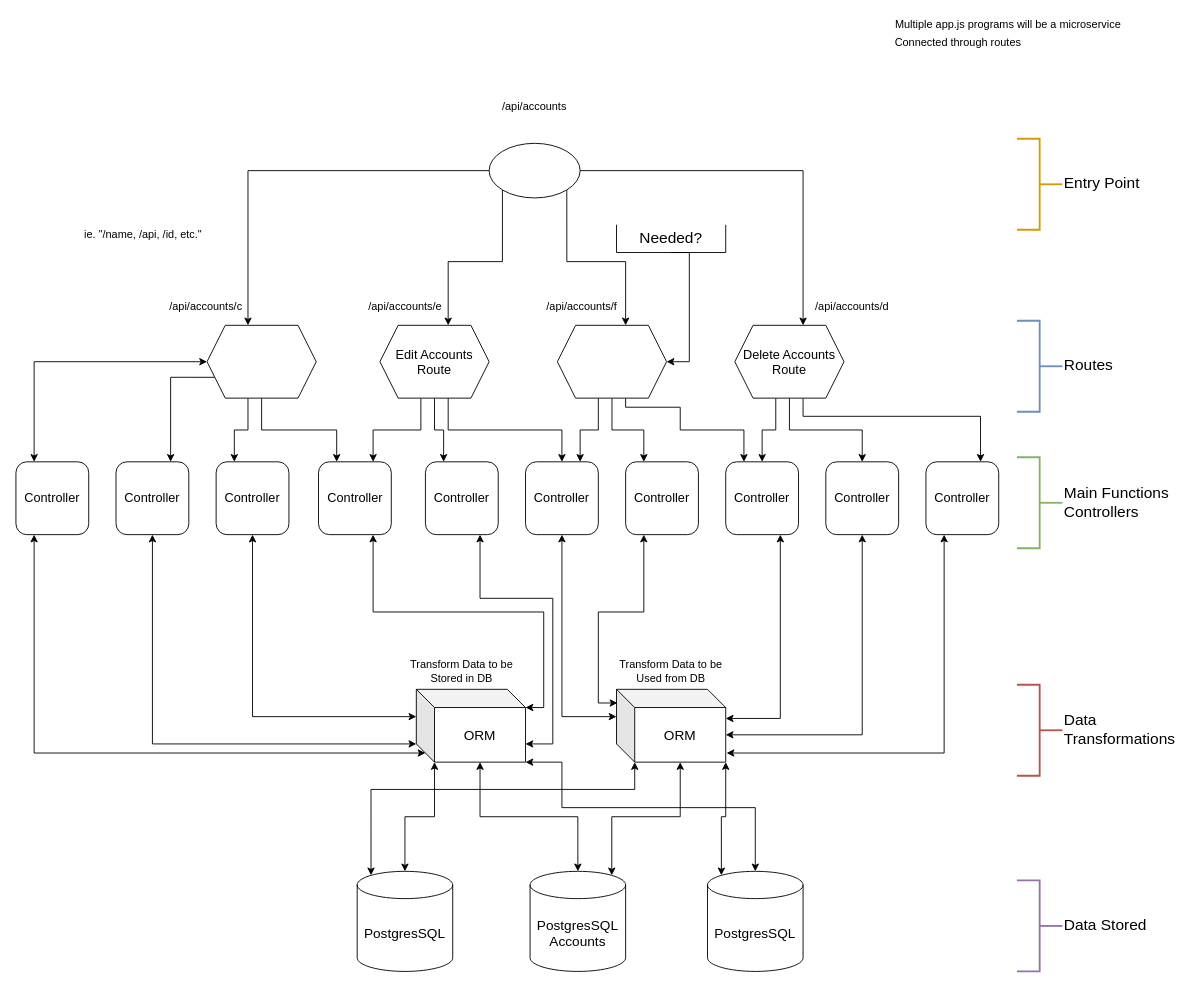
This 1191x987 diagram has some shape labels left out. Each missing label, with the centre of its shape:
Accounts.js: (x=534, y=170)
Create Accounts Route: (x=261, y=361)
Find Accounts Route?: (x=611, y=361)
